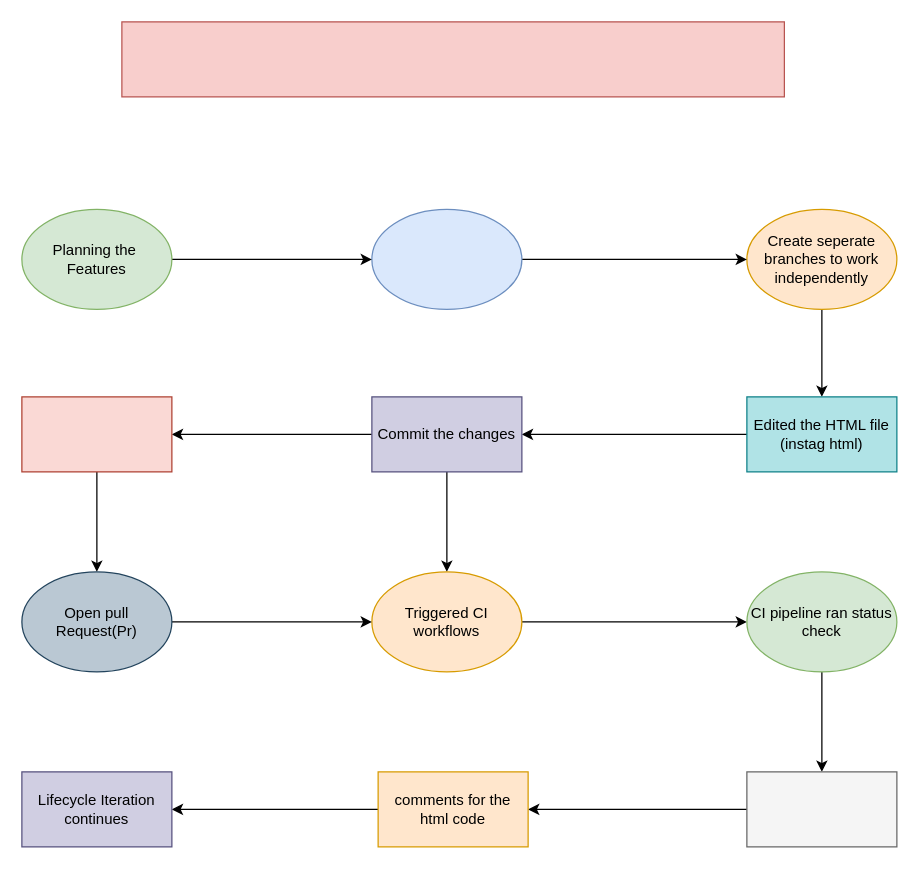
The diagram is 919 pixels wide and 869 high, and some of its shapes have lost their labels. The shapes that lost their labels are listed below. From the top down, each one's centre as x and y in pixels, then its label:
At pixel 452 59: "DevOps Lifecycle (Web Application Project)".
At pixel 446 258: "Create a branch for the feature".
At pixel 96 434: "push code to GitHub".
At pixel 821 809: "Team collaboration".
